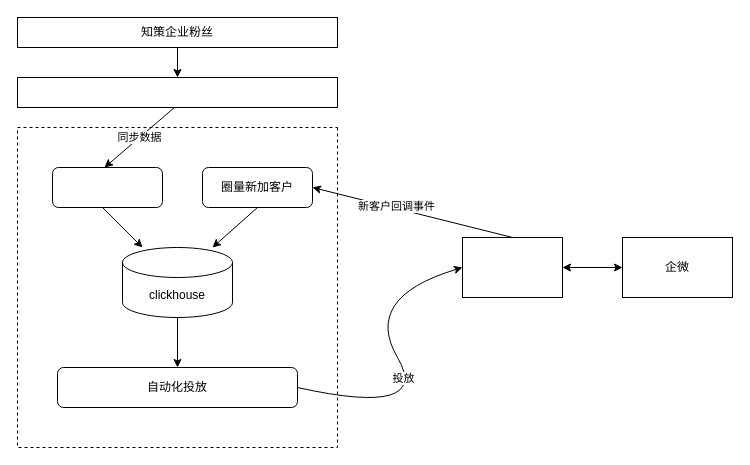
The diagram is 750 pixels wide and 465 high, and some of its shapes have lost their labels. The centre of each missing label's shape, as x and y in pixels:
"圈量" goes at point (512, 267).
"数仓中心" goes at point (177, 92).
"数据同步服务" goes at point (107, 187).
